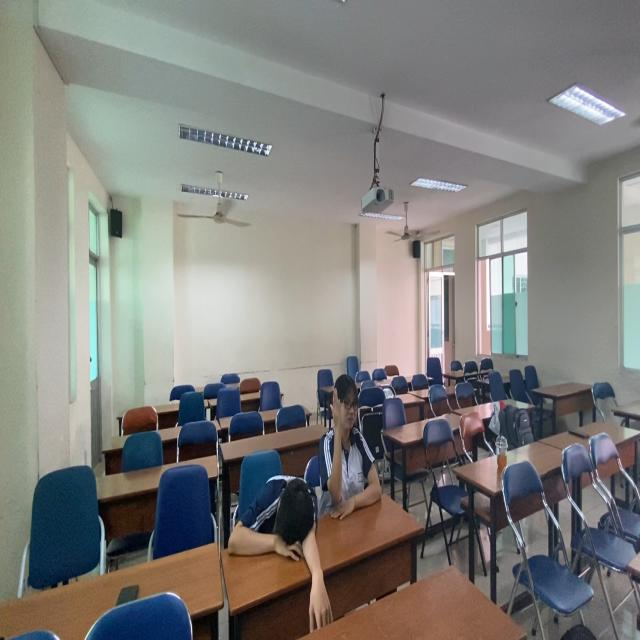raise_hand: (328, 370, 387, 525)
sleep: (225, 471, 326, 565)
